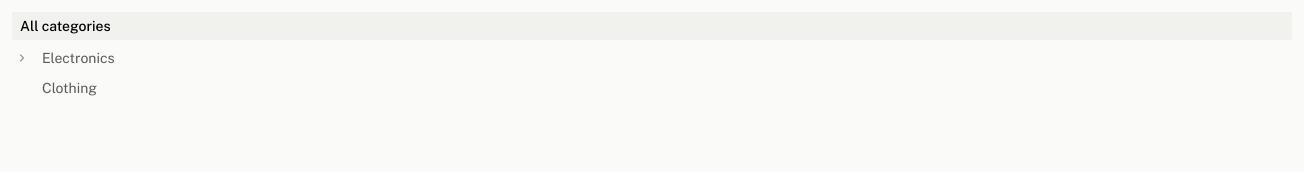
Test case: CategoryTreeFilter › renders every category, nested
Check: the button "Electronics" is shown, box top-left (34, 44), bottom-right (1292, 72)
Check: the button "Clothing" is shown, box top-left (34, 74), bottom-right (1292, 102)
Click the button named "Expand Electronics" at (22, 58), box top-left (12, 48), bottom-right (32, 68)
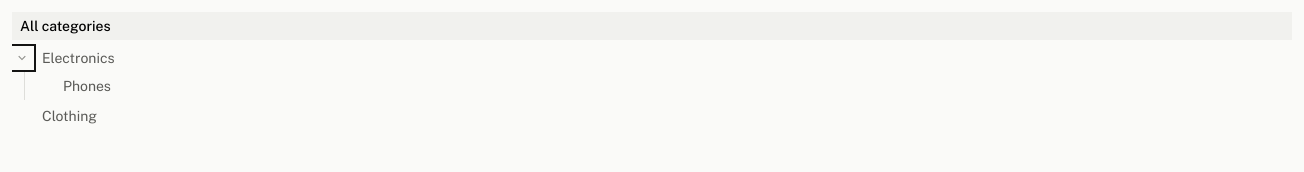
Check: the button "Phones" is shown, box top-left (55, 72), bottom-right (1292, 100)
